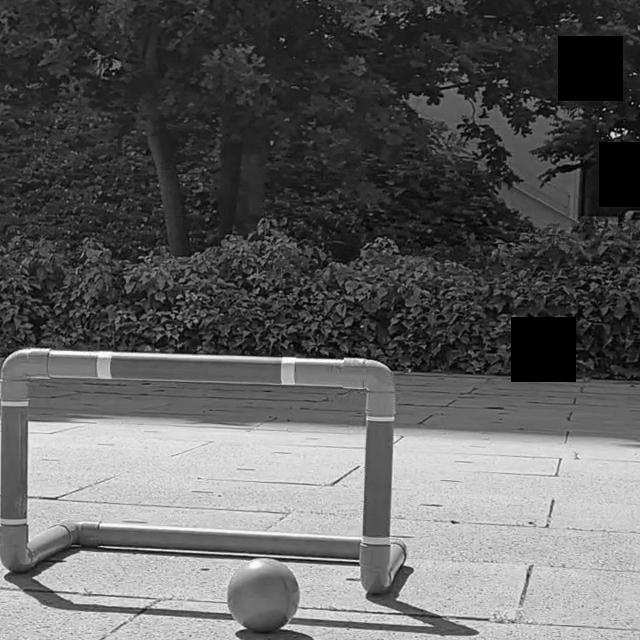ball: (222, 553, 302, 633)
